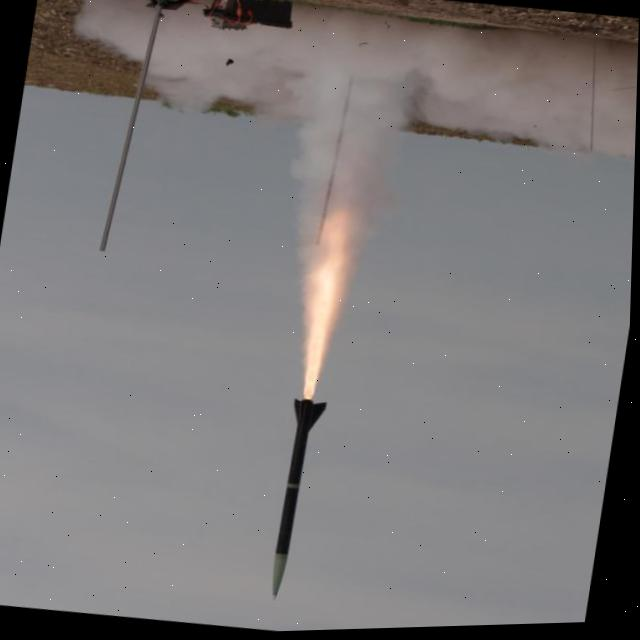missile: (263, 390, 337, 602)
